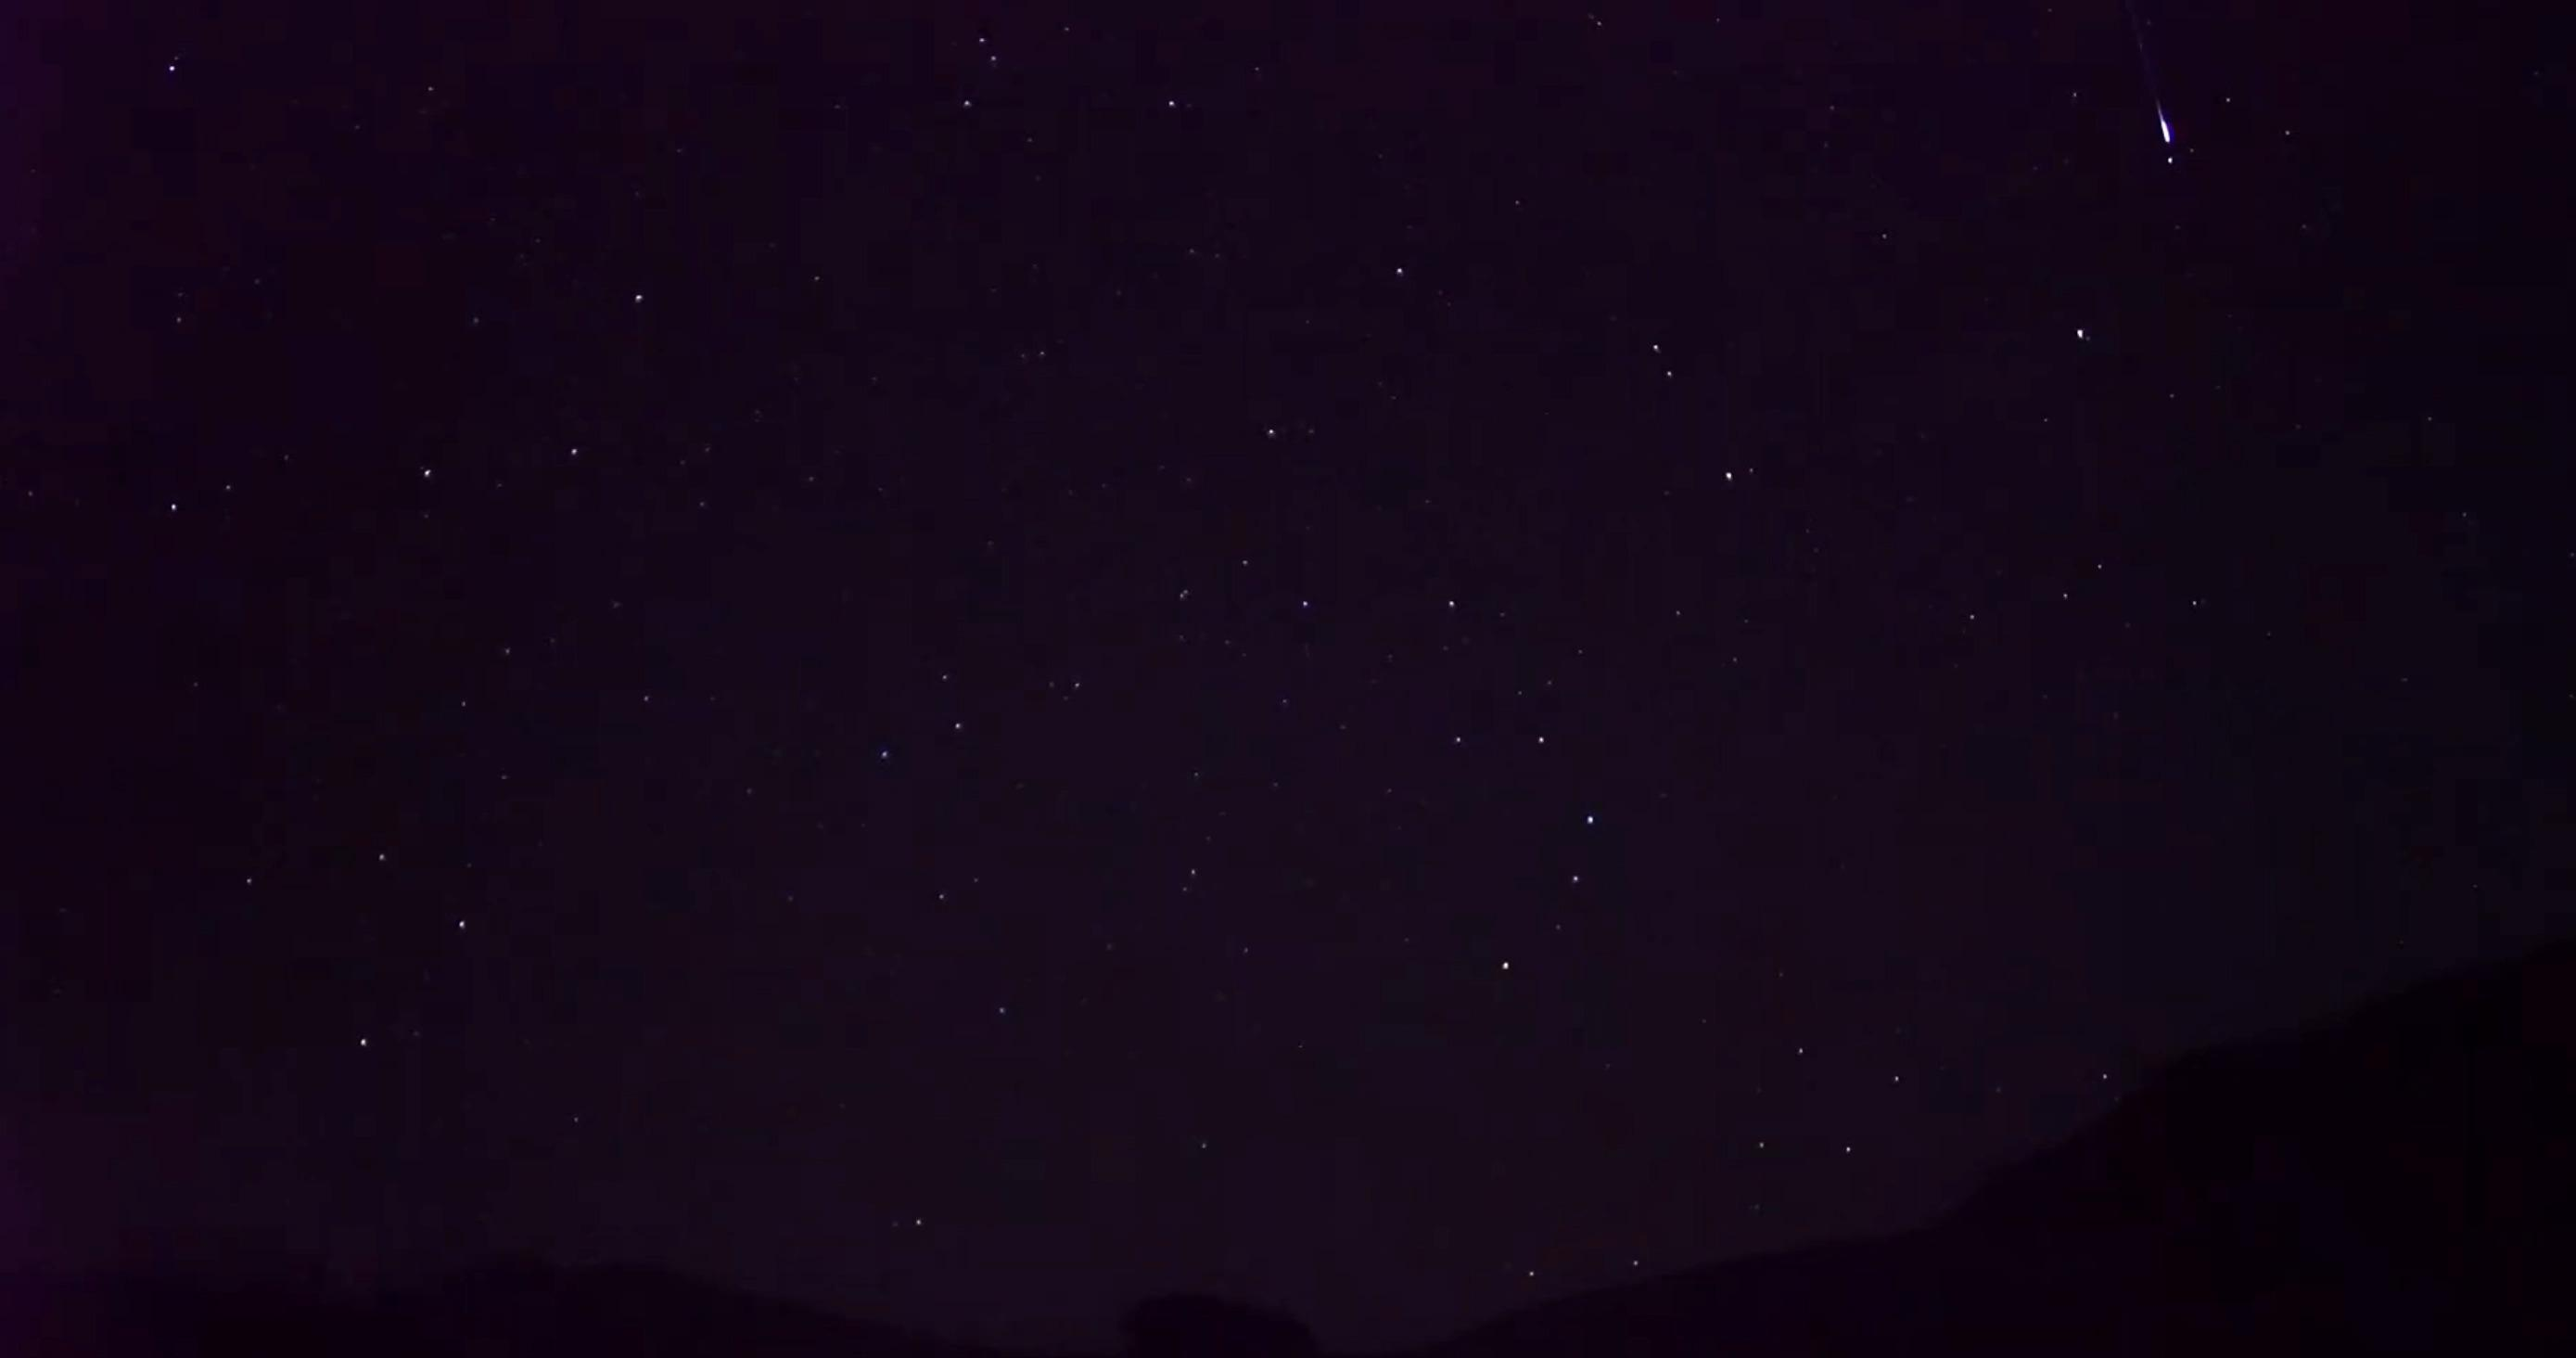meteorite: (2106, 9, 2205, 182)
